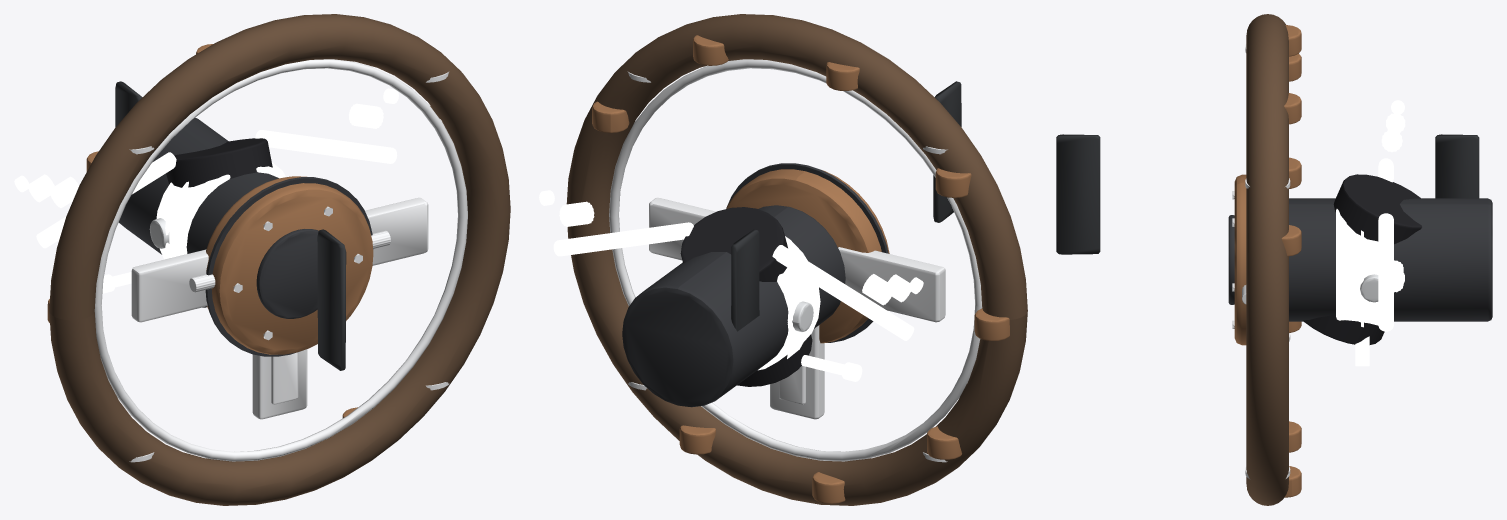
File: steering_luxury_3spoke.glb
3 views of the same model, side by side, from view 1: azimuth 30°, elevation 25°; view 2: azimuth 150°, elevation 25°; view 3: azimuth 270°, elevation 25° (orthographic). The views are drawn at different scales.
Parts seen in each view (by area): view 1: Steer_Lux_Wood_Rim, Steer_Lux_Center_Boss, Steer_Lux_Chrome_Inner_Ring, Steer_Lux_Column_Housing, Steer_Lux_Emblem_Crest, GEO_Steering_PaddleShifters, Steer_Lux_Spoke_L, Steer_Lux_Telescopic_Shroud_ColumnHousing, Steer_Lux_Spoke_R, Steer_Lux_Stalk_Cluster_Shroud_Collar, Steer_Lux_Stalk_Cluster_Stalk_R_Stem, Steer_Lux_Spoke_B (+5 smaller); view 2: Steer_Lux_Wood_Rim, Steer_Lux_Column_Housing, Steer_Lux_Chrome_Inner_Ring, Steer_Lux_Center_Boss, Steer_Lux_Telescopic_Shroud_ColumnHousing, Steer_Lux_Spoke_L, GEO_Steering_PaddleShifters, Steer_Lux_Stalk_Cluster_Stalk_L_Stem, Steer_Lux_Stalk_Cluster_Stalk_R_Stem, Steer_Lux_Stalk_Cluster_Shroud_Collar, Steer_Lux_Spoke_B, Steer_Lux_Spoke_R (+12 smaller); view 3: Steer_Lux_Wood_Rim, Steer_Lux_Column_Housing, GEO_Steering_PaddleShifters, Steer_Lux_Telescopic_Shroud_ColumnHousing, Steer_Lux_Stalk_Cluster_Shroud_Collar, Steer_Lux_Center_Boss, Steer_Lux_Stalk_Cluster_Stalk_R_Stem, Steer_Lux_Emblem_Crest.
Part boxes in pixels (x1,y1,x2,y2): Steer_Lux_Wood_Rim: (49,14,510,505); Steer_Lux_Center_Boss: (206,176,373,354); Steer_Lux_Chrome_Inner_Ring: (94,59,467,461); Steer_Lux_Column_Housing: (118,117,278,254); Steer_Lux_Emblem_Crest: (256,229,318,318); GEO_Steering_PaddleShifters: (115,81,346,370); Steer_Lux_Spoke_L: (131,249,208,322); Steer_Lux_Telescopic_Shroud_ColumnHousing: (166,138,272,307); Steer_Lux_Spoke_R: (365,197,428,265); Steer_Lux_Stalk_Cluster_Shroud_Collar: (156,166,285,259); Steer_Lux_Stalk_Cluster_Stalk_R_Stem: (255,130,397,163); Steer_Lux_Spoke_B: (252,349,307,419); Steer_Lux_Wood_Rim: (566,14,1027,505); Steer_Lux_Column_Housing: (622,205,845,407); Steer_Lux_Chrome_Inner_Ring: (609,59,982,461); Steer_Lux_Center_Boss: (726,169,889,343); Steer_Lux_Telescopic_Shroud_ColumnHousing: (680,207,812,386); Steer_Lux_Spoke_L: (838,247,945,322); GEO_Steering_PaddleShifters: (731,81,961,331); Steer_Lux_Stalk_Cluster_Stalk_L_Stem: (772,245,914,340); Steer_Lux_Stalk_Cluster_Stalk_R_Stem: (553,222,693,256); Steer_Lux_Stalk_Cluster_Shroud_Collar: (679,236,820,370); Steer_Lux_Spoke_B: (770,325,824,419); Steer_Lux_Spoke_R: (649,197,715,260); Steer_Lux_Wood_Rim: (1246,14,1288,505); Steer_Lux_Column_Housing: (1289,198,1492,321); GEO_Steering_PaddleShifters: (1056,134,1479,254); Steer_Lux_Telescopic_Shroud_ColumnHousing: (1303,174,1421,344); Steer_Lux_Stalk_Cluster_Shroud_Collar: (1336,195,1378,325); Steer_Lux_Center_Boss: (1234,174,1246,345); Steer_Lux_Stalk_Cluster_Stalk_R_Stem: (1378,213,1393,331); Steer_Lux_Emblem_Crest: (1228,215,1234,304).
Bounding box in the file's own units: 0.416 × 0.416 × 0.3686.
